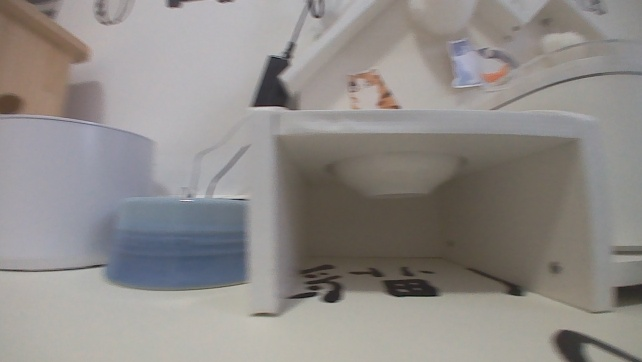wire: (180, 115, 244, 195), (280, 0, 325, 60), (205, 144, 250, 198)
